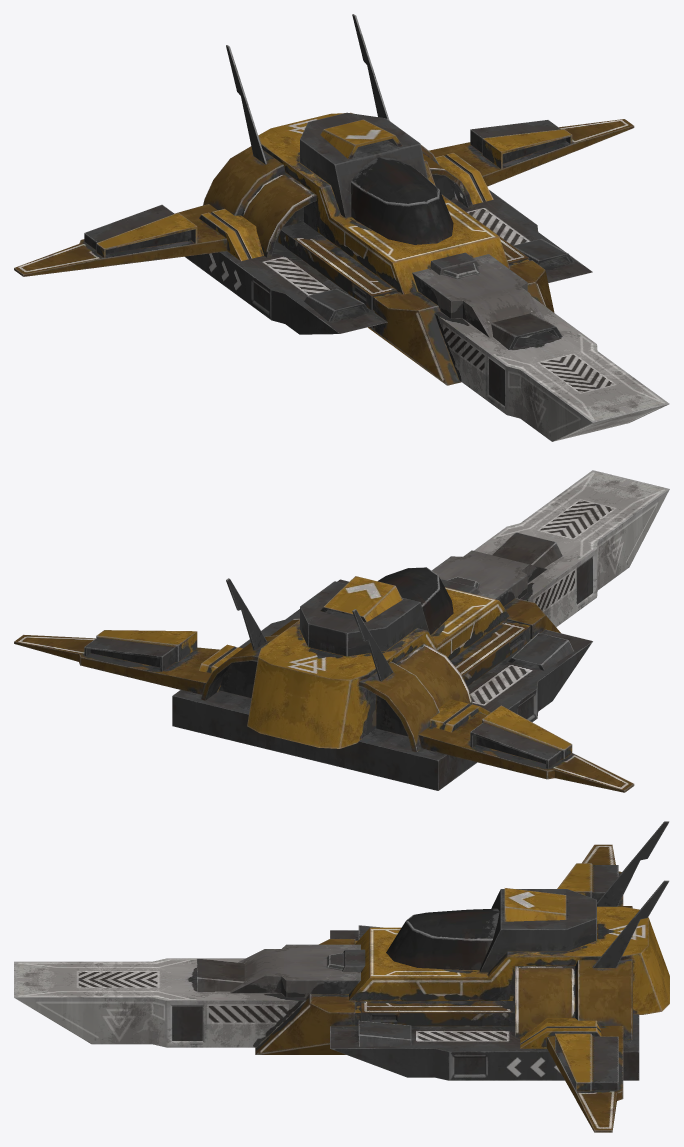
The model's file is challenger-speeder-cc0.glb.
The picture shows the model from 3 angles, top to bottom: view 1: azimuth 30°, elevation 25°; view 2: azimuth 150°, elevation 25°; view 3: azimuth 270°, elevation 25°; orthographic projection. The views are drawn at different scales.
Parts seen in each view (by area): view 1: Challenger; view 2: Challenger; view 3: Challenger.
Part boxes in pixels (left/top/right/bottom): Challenger: left=14, top=14, right=669, bottom=441; Challenger: left=14, top=470, right=669, bottom=792; Challenger: left=14, top=821, right=669, bottom=1132.
Size of the model in its own units: 10.5 by 3.02 by 10.18.
Materials: 1 (1 with a texture image).
